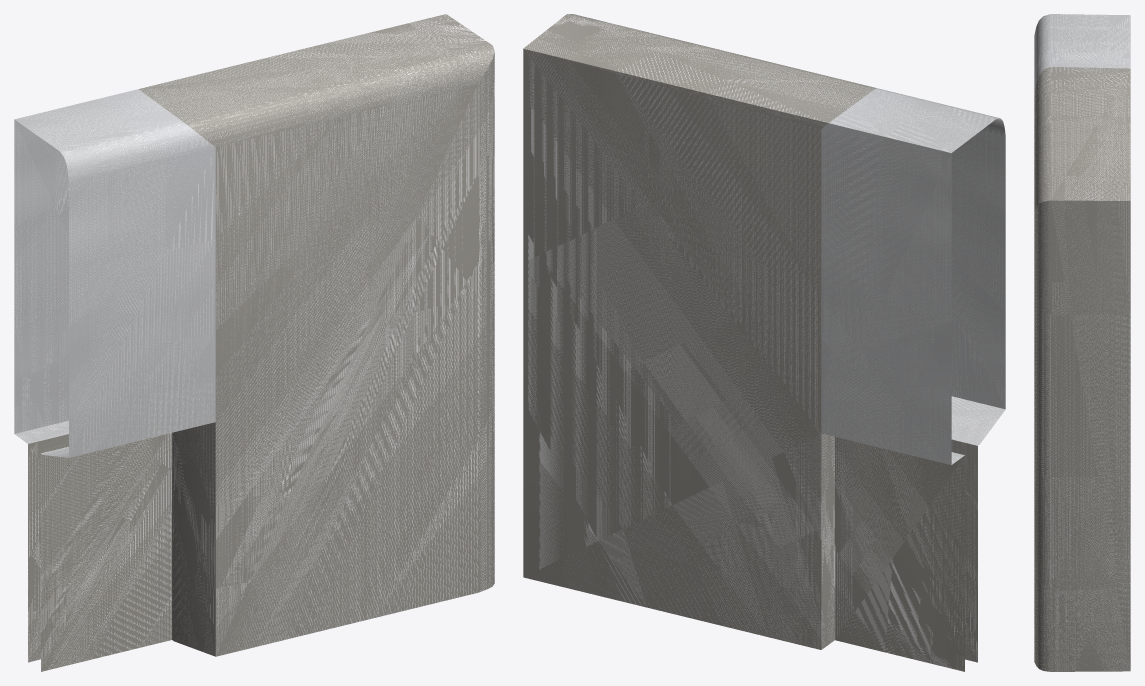
File: original-40.obj
The picture shows the model from 3 angles, left to right: view 1: azimuth 30°, elevation 25°; view 2: azimuth 150°, elevation 25°; view 3: azimuth 270°, elevation 25°; orthographic projection. The views are drawn at different scales.
Parts seen in each view (by area): view 1: RT_21_TR1/RT_21_TR/mesh32/mesh32-geometry#mesh32-geometry; view 2: RT_21_TR1/RT_21_TR/mesh32/mesh32-geometry#mesh32-geometry; view 3: RT_21_TR1/RT_21_TR/mesh32/mesh32-geometry#mesh32-geometry.
Part boxes in pixels (left/top/right/bottom): RT_21_TR1/RT_21_TR/mesh32/mesh32-geometry#mesh32-geometry: left=14, top=14, right=494, bottom=671; RT_21_TR1/RT_21_TR/mesh32/mesh32-geometry#mesh32-geometry: left=523, top=14, right=1005, bottom=671; RT_21_TR1/RT_21_TR/mesh32/mesh32-geometry#mesh32-geometry: left=1034, top=14, right=1130, bottom=671.
Size of the model in its own units: 0.124 by 0.1462 by 0.0271.
